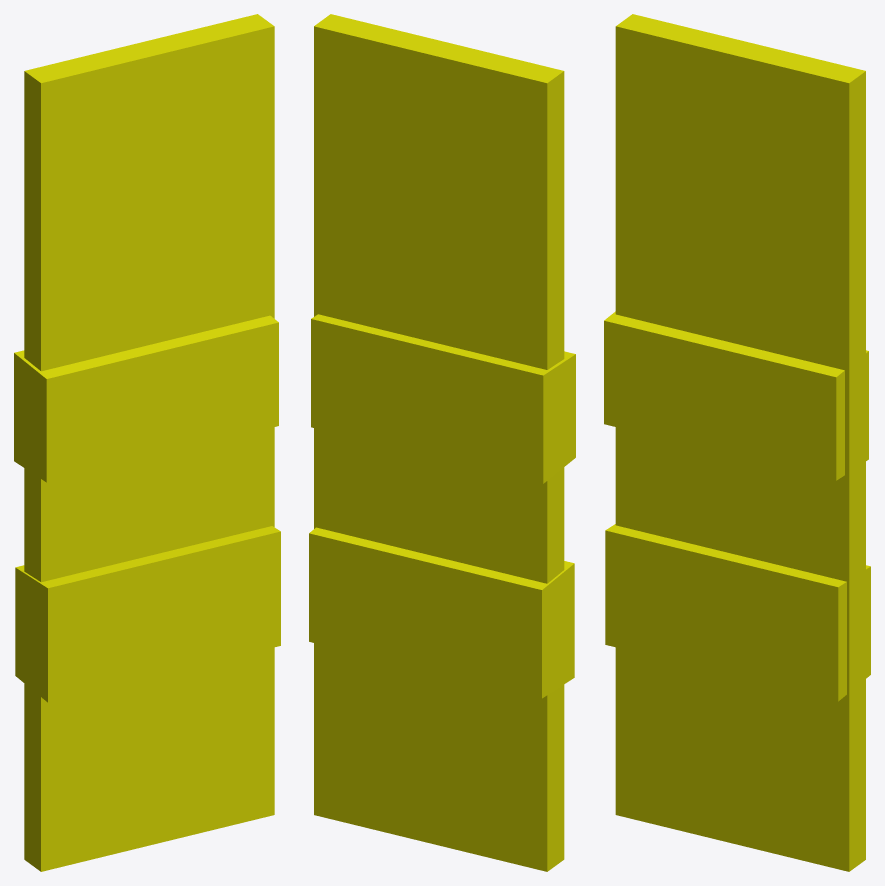
The picture shows the model from 3 angles, left to right: view 1: azimuth 30°, elevation 25°; view 2: azimuth 150°, elevation 25°; view 3: azimuth 330°, elevation 25°; orthographic projection.
Parts seen in each view (by area): view 1: door_r; view 2: door_r; view 3: door_r.
Part boxes in pixels (left/top/right/bottom): door_r: left=14, top=14, right=280, bottom=871; door_r: left=309, top=14, right=575, bottom=871; door_r: left=604, top=14, right=870, bottom=871.
Size of the model in its own units: 0.7251 by 2.31 by 0.1733.
1 material, 1 textured.
